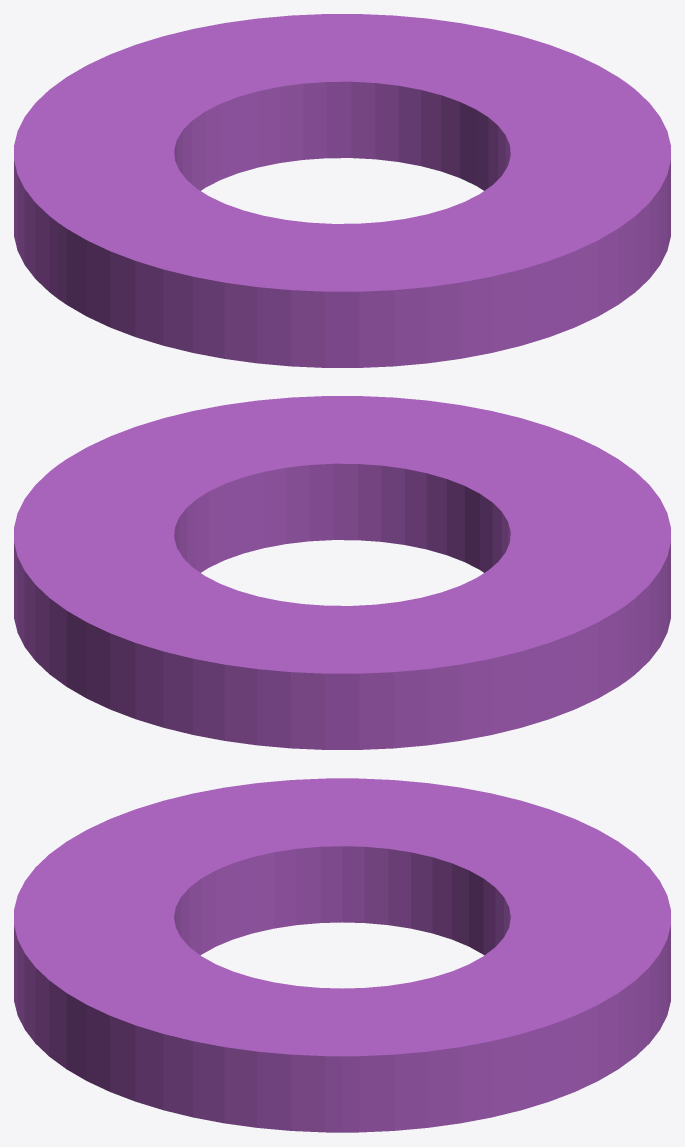
The model's file is 6mm_Washer_.dae.
3 renders of one model, top to bottom at view 1: azimuth 30°, elevation 25°; view 2: azimuth 150°, elevation 25°; view 3: azimuth 270°, elevation 25°, orthographic.
Visible parts, largest first — view 1: _mm_Washer; view 2: _mm_Washer; view 3: _mm_Washer.
Boxes of the visible parts, x1,y1,x2,y2 form: _mm_Washer: (14,14,670,367); _mm_Washer: (14,396,670,749); _mm_Washer: (14,778,670,1132).
Bounding box in the file's own units: 0.0125 × 0.0125 × 0.0016.
